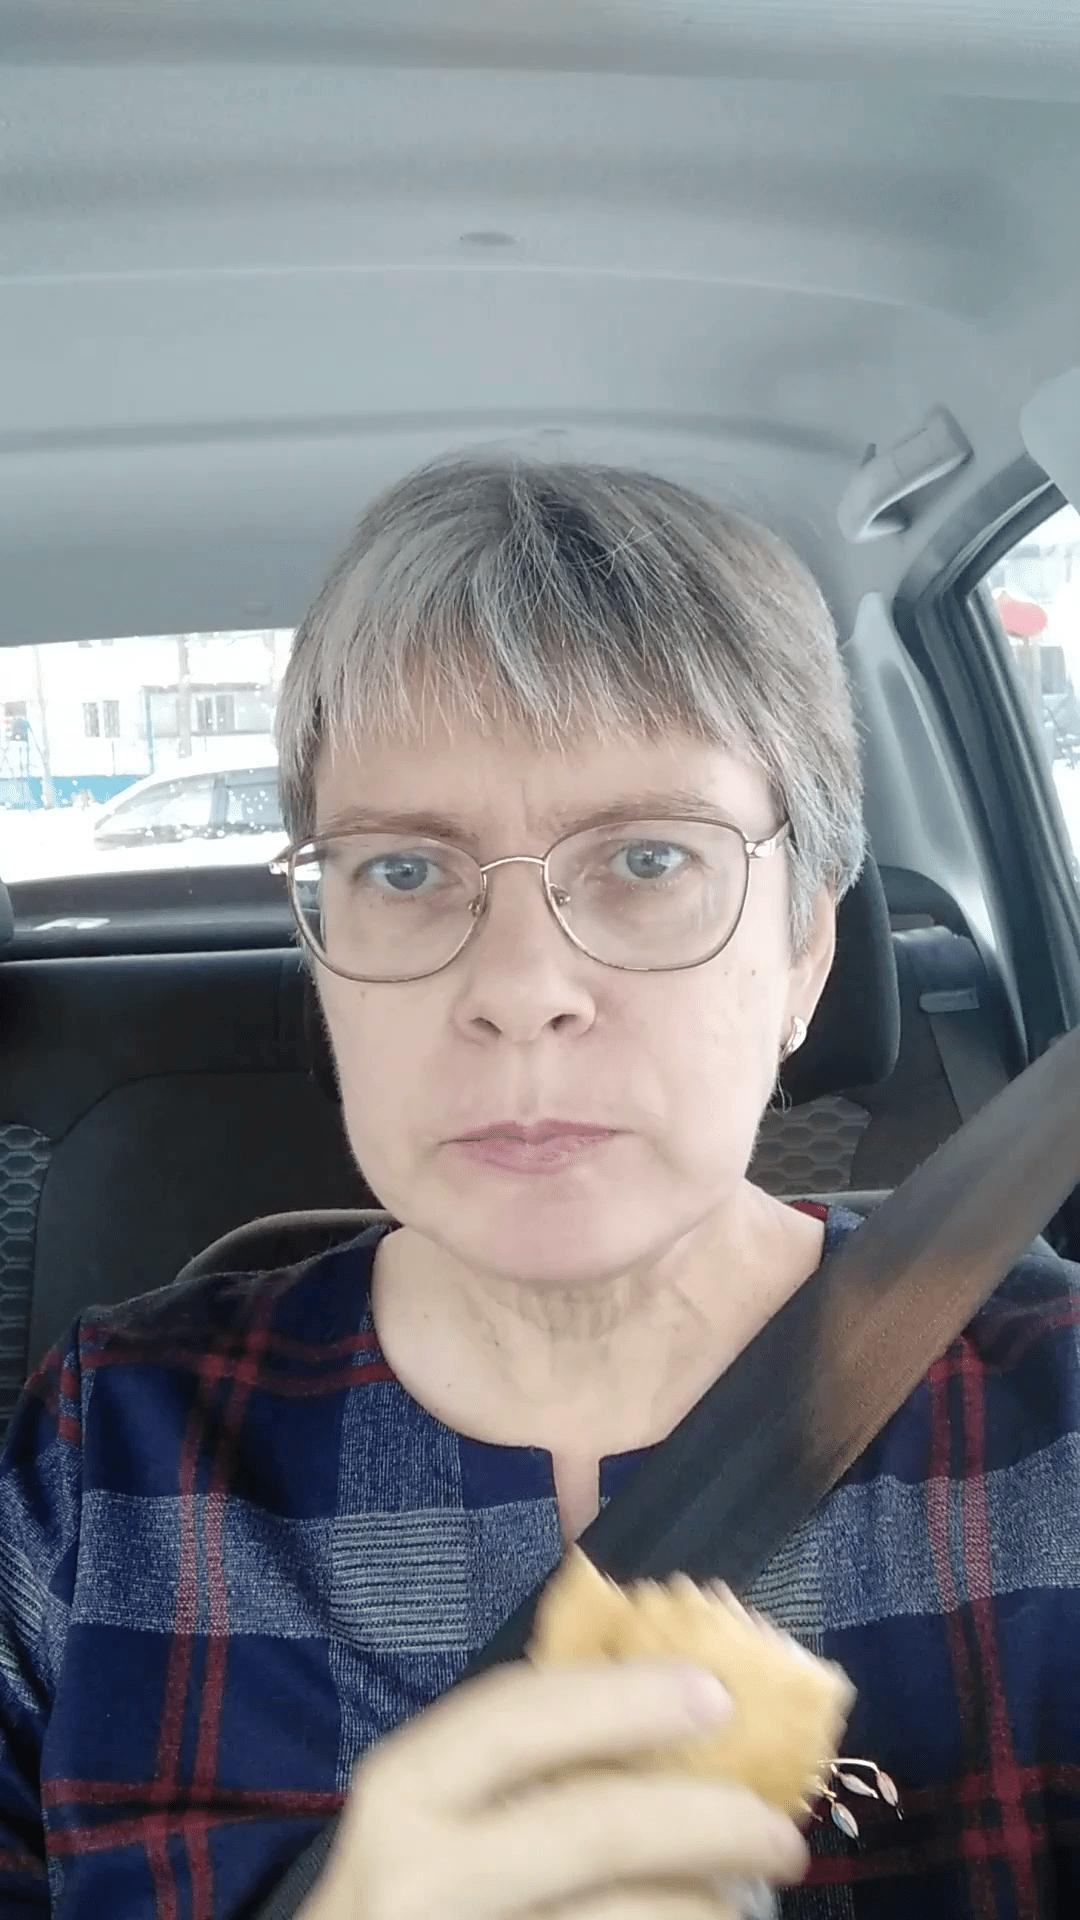Eating: (518, 1542, 878, 1858)
